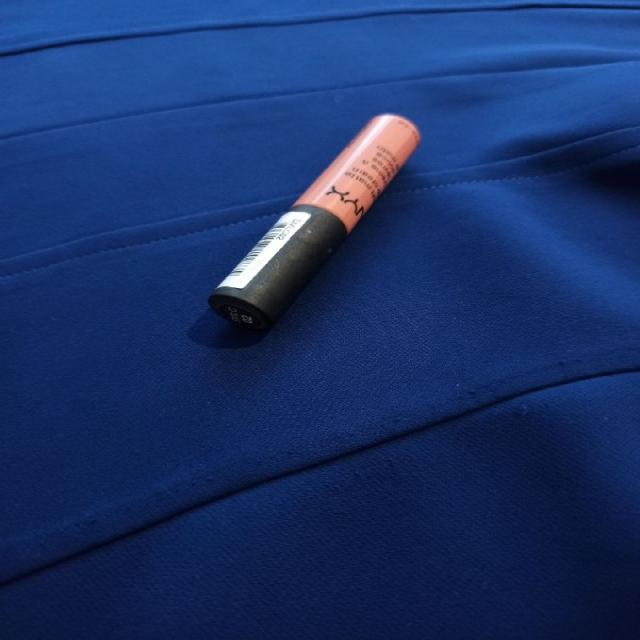lipstick: (207, 112, 420, 330)
